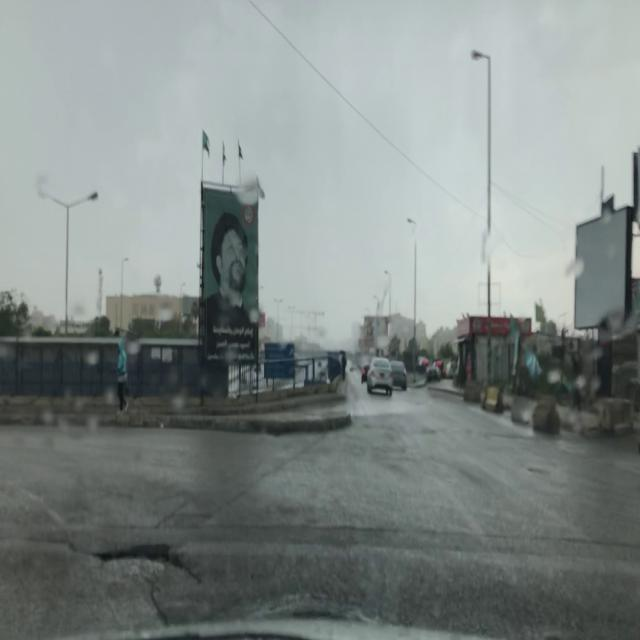Pothole: (87, 545, 181, 575)
